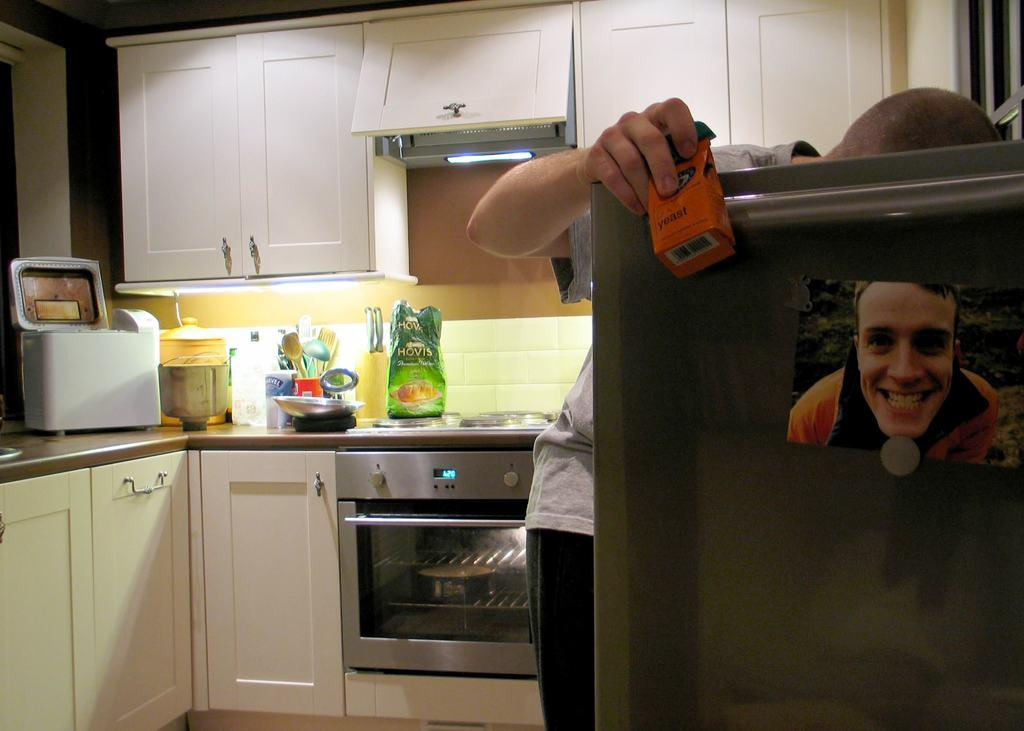cabinet_door: (206, 454, 344, 692), (119, 50, 241, 267), (252, 49, 370, 266), (94, 459, 190, 710), (6, 489, 90, 731), (735, 22, 873, 140), (376, 32, 562, 118), (593, 22, 724, 133)
handle: (738, 186, 1022, 249), (354, 504, 528, 544), (129, 476, 175, 504), (214, 235, 238, 266), (307, 470, 332, 499), (436, 100, 462, 124), (244, 236, 262, 266)
